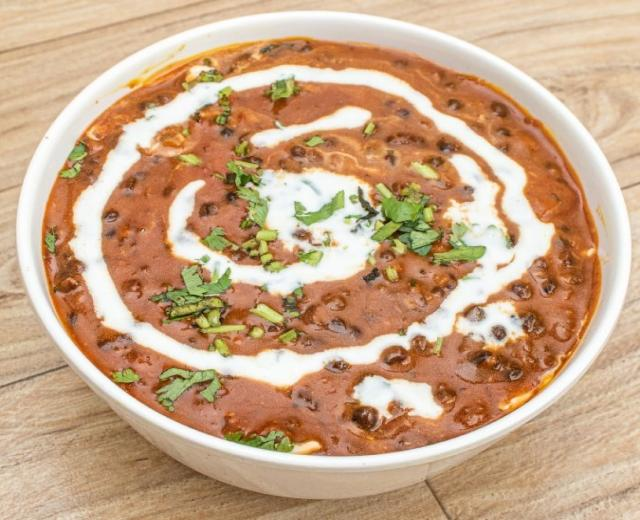dal makhni: (45, 39, 602, 454)
